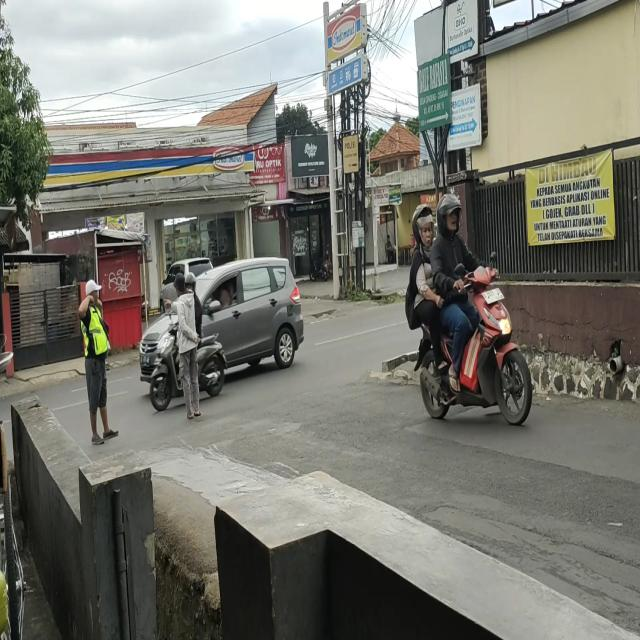helmet: (438, 198, 462, 234), (413, 208, 435, 245)
